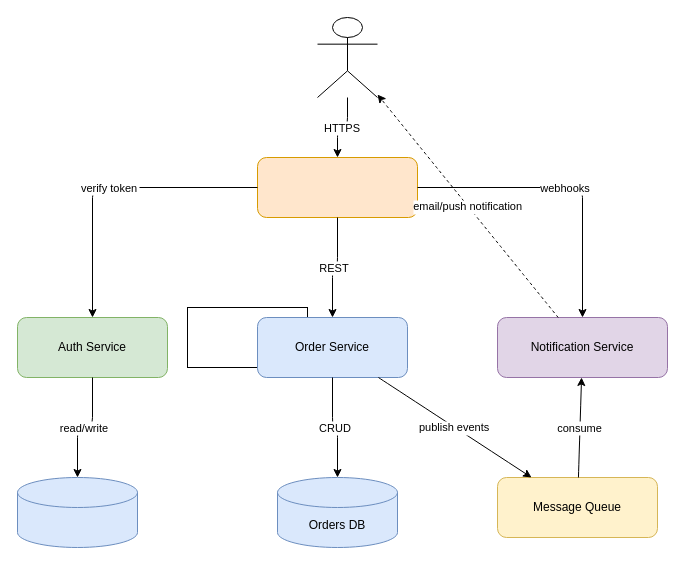
This 685x565 diagram has some shape labels left out. Each missing label, with the centre of its shape:
"API Gateway" goes at point (337, 187).
"User" goes at point (347, 57).
"Users DB" goes at point (77, 512).
